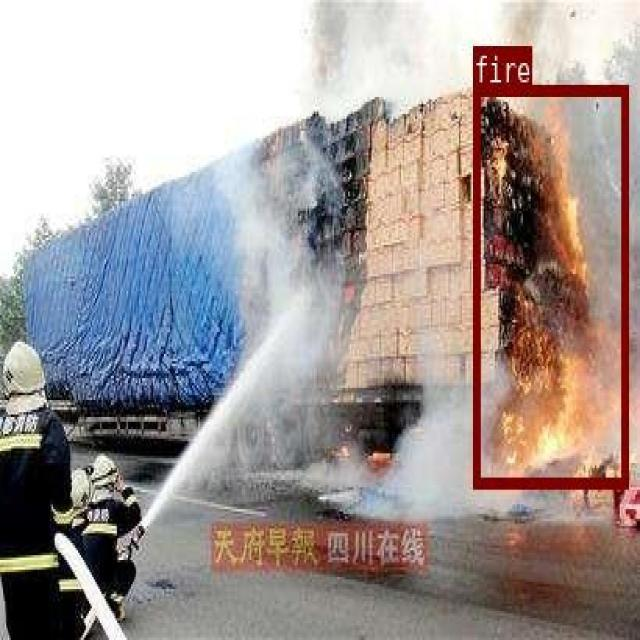fire: (472, 84, 627, 487)
